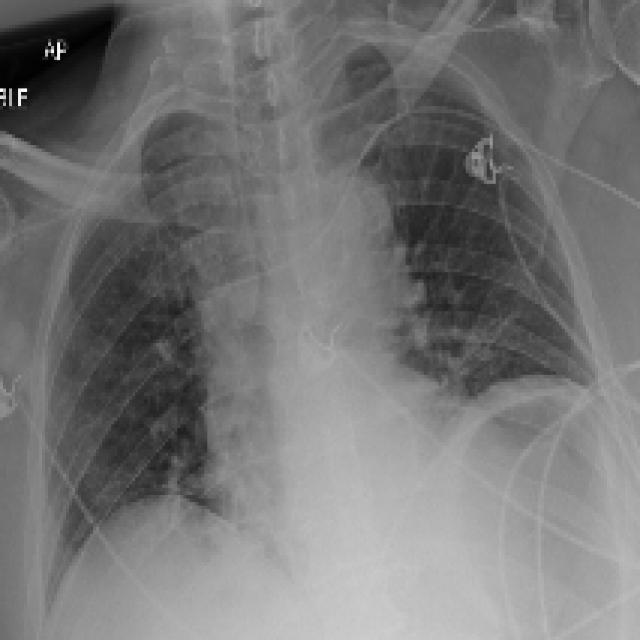coronavirus: (1, 0, 640, 640)
